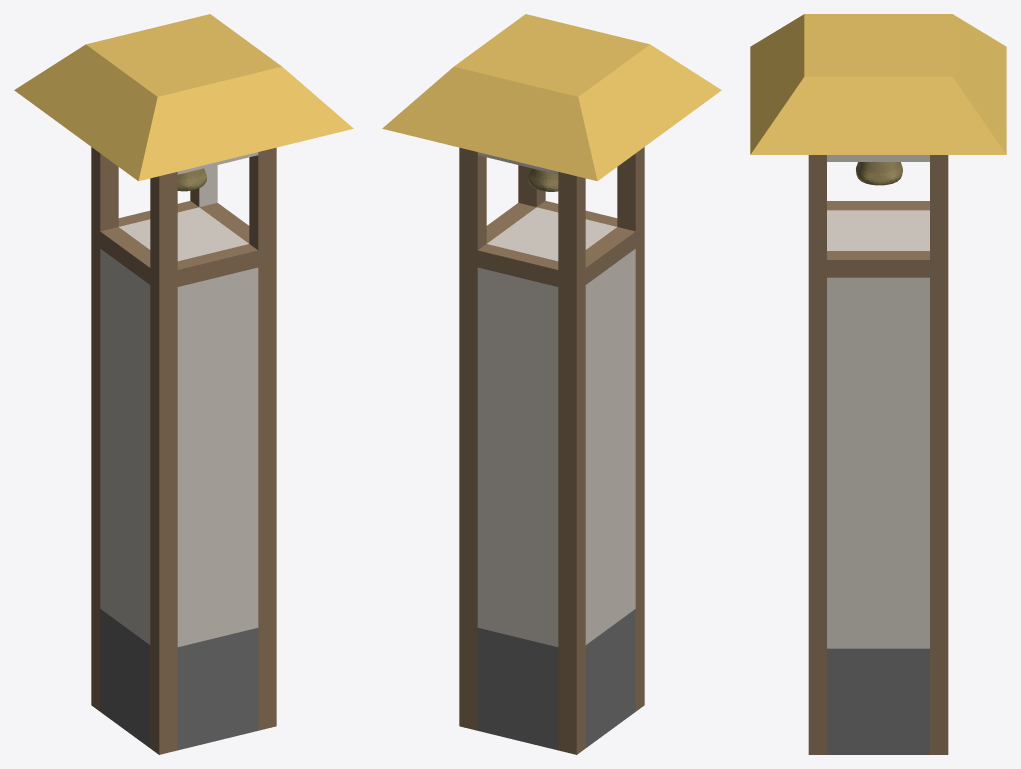
File: BellTower.fbx
The picture shows the model from 3 angles, left to right: view 1: azimuth 30°, elevation 25°; view 2: azimuth 150°, elevation 25°; view 3: azimuth 270°, elevation 25°; orthographic projection. The views are drawn at different scales.
Visible parts, largest first — view 1: Cube.001; view 2: Cube.001, Icosphere; view 3: Cube.001, Icosphere.
Part boxes in pixels (bbox=[...]): Cube.001: bbox=[14, 14, 353, 754]; Cube.001: bbox=[382, 14, 721, 754]; Icosphere: bbox=[528, 168, 558, 191]; Cube.001: bbox=[750, 14, 1006, 754]; Icosphere: bbox=[856, 162, 902, 185].
Bounding box in the file's own units: 497 × 1455 × 497.
